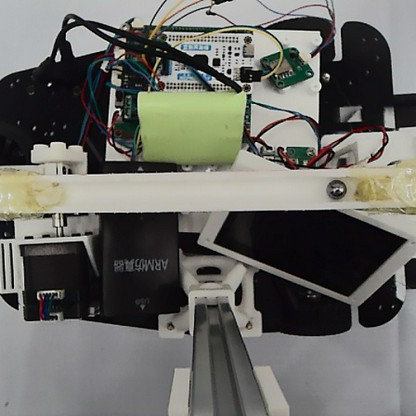ironball: (323, 176, 348, 201)
